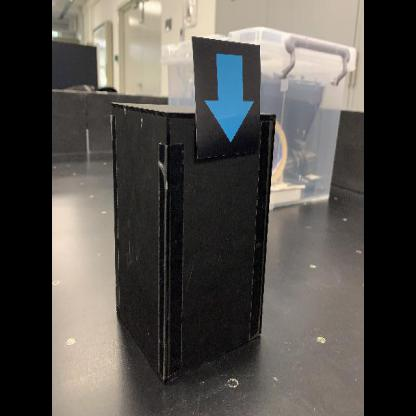down: (190, 34, 266, 166)
